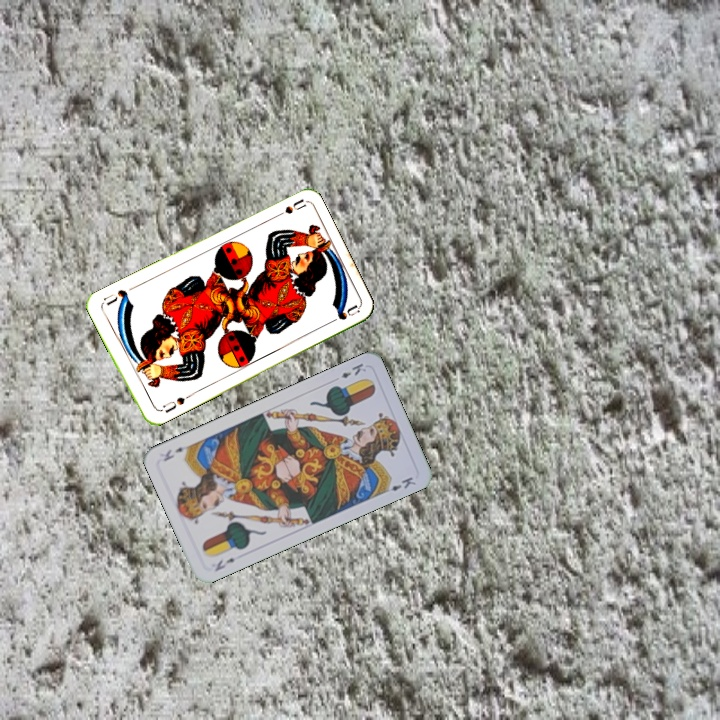EK: (337, 359, 369, 381), (210, 554, 238, 574)
SU: (268, 195, 307, 222), (158, 391, 192, 415)
